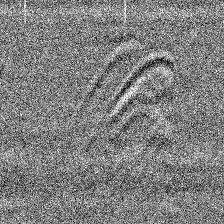Utility: (87, 38, 174, 124)
